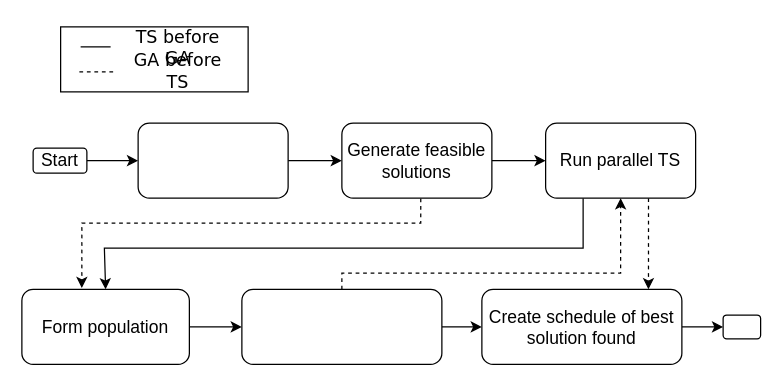
Some shapes in this 783 by 386 pixel diagram are drawn without their labels. The shapes that lost their labels are listed below. From the top down, each one's centre as x and y in pixels, then its label:
At (x=212, y=160): "Get parameters & static data".
At (x=341, y=326): "Run GA on population".
At (x=741, y=326): "End".
